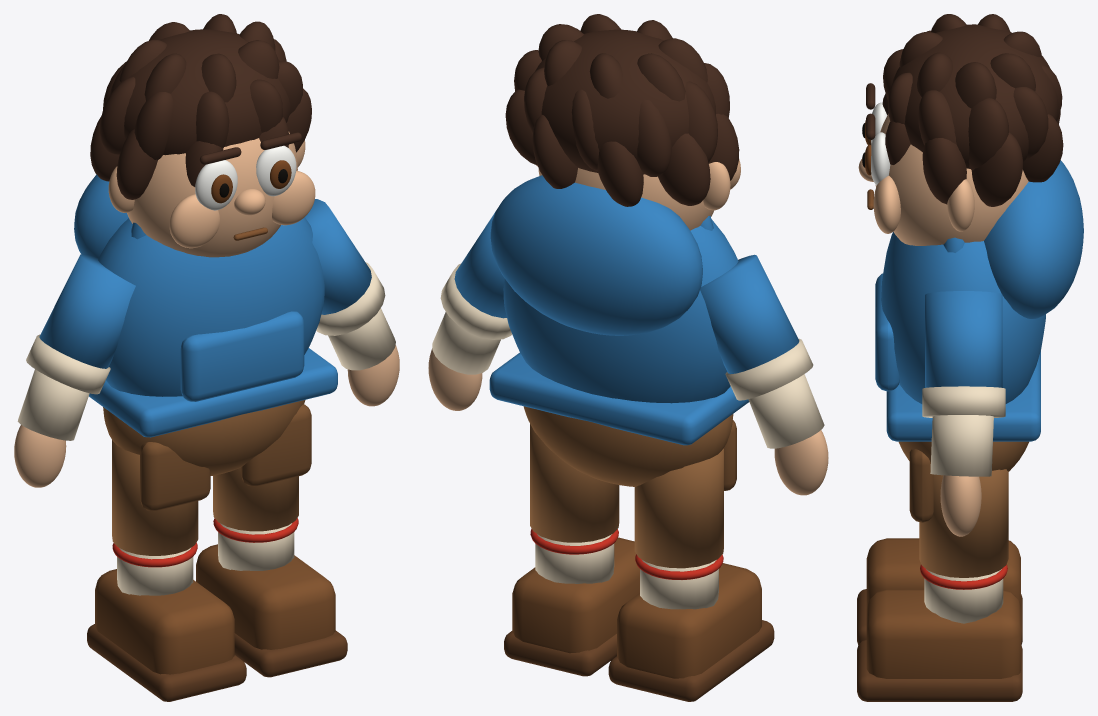
The model's file is firipu_blockout_v01.glb.
The picture shows the model from 3 angles, left to right: view 1: azimuth 30°, elevation 25°; view 2: azimuth 150°, elevation 25°; view 3: azimuth 270°, elevation 25°; orthographic projection. The views are drawn at different scales.
Visible parts, largest first — view 1: Torso_Poleron, Bota_L, Bota_R, Casquete_Cabello, Bolsillo_Canguro, Cabeza, Pretina_Poleron, BrazoSuperior_L, Caderas, Pierna_L, Pierna_R, BrazoSuperior_R (+33 smaller); view 2: Capucha, Torso_Poleron, Bota_L, Casquete_Cabello, Pretina_Poleron, Pierna_L, Bota_R, Caderas, BrazoSuperior_L, Pierna_R, Suela_L, AntebrazoCrema_L (+30 smaller); view 3: Torso_Poleron, Bota_R, Capucha, BrazoSuperior_R, Casquete_Cabello, Pierna_R, Cabeza, Suela_R, Pretina_Poleron, AntebrazoCrema_R, Bota_L, Calcetin_R (+25 smaller).
Boxes of the visible parts, <box> form: Torso_Poleron: <box>98,217,324,396</box>; Bota_L: <box>95,569,234,674</box>; Bota_R: <box>196,544,335,649</box>; Casquete_Cabello: <box>109,29,290,155</box>; Bolsillo_Canguro: <box>180,311,304,401</box>; Cabeza: <box>127,131,297,257</box>; Pretina_Poleron: <box>89,348,337,437</box>; BrazoSuperior_L: <box>39,253,135,368</box>; Caderas: <box>103,400,305,475</box>; Pierna_L: <box>112,440,198,555</box>; Pierna_R: <box>213,467,298,531</box>; BrazoSuperior_R: <box>305,199,371,314</box>; Capucha: <box>490,175,702,335</box>; Torso_Poleron: <box>503,219,738,403</box>; Bota_L: <box>617,563,761,678</box>; Casquete_Cabello: <box>535,29,715,174</box>; Pretina_Poleron: <box>489,352,749,445</box>; Pierna_L: <box>634,448,723,568</box>; Bota_R: <box>512,537,639,653</box>; Caderas: <box>523,406,733,486</box>; BrazoSuperior_L: <box>700,254,799,374</box>; Pierna_R: <box>530,424,619,542</box>; Suela_L: <box>608,620,774,701</box>; AntebrazoCrema_L: <box>748,374,824,448</box>; Torso_Poleron: <box>881,232,1045,403</box>; Bota_R: <box>866,589,1020,678</box>; Capucha: <box>984,160,1083,318</box>; BrazoSuperior_R: <box>925,291,1002,387</box>; Casquete_Cabello: <box>892,24,1058,168</box>; Pierna_R: <box>919,469,1008,577</box>; Cabeza: <box>875,113,1028,245</box>; Suela_R: <box>857,639,1022,701</box>; Pretina_Poleron: <box>886,350,1040,441</box>; AntebrazoCrema_R: <box>930,415,993,476</box>; Bota_L: <box>866,538,1020,608</box>; Calcetin_R: <box>924,569,1003,623</box>.
Size of the model in its own units: 0.7027 by 1.06 by 0.3514.
